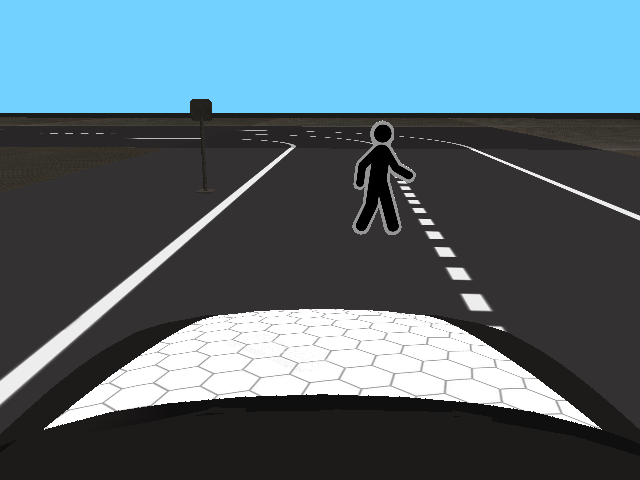pedestrian: (352, 119, 417, 235)
